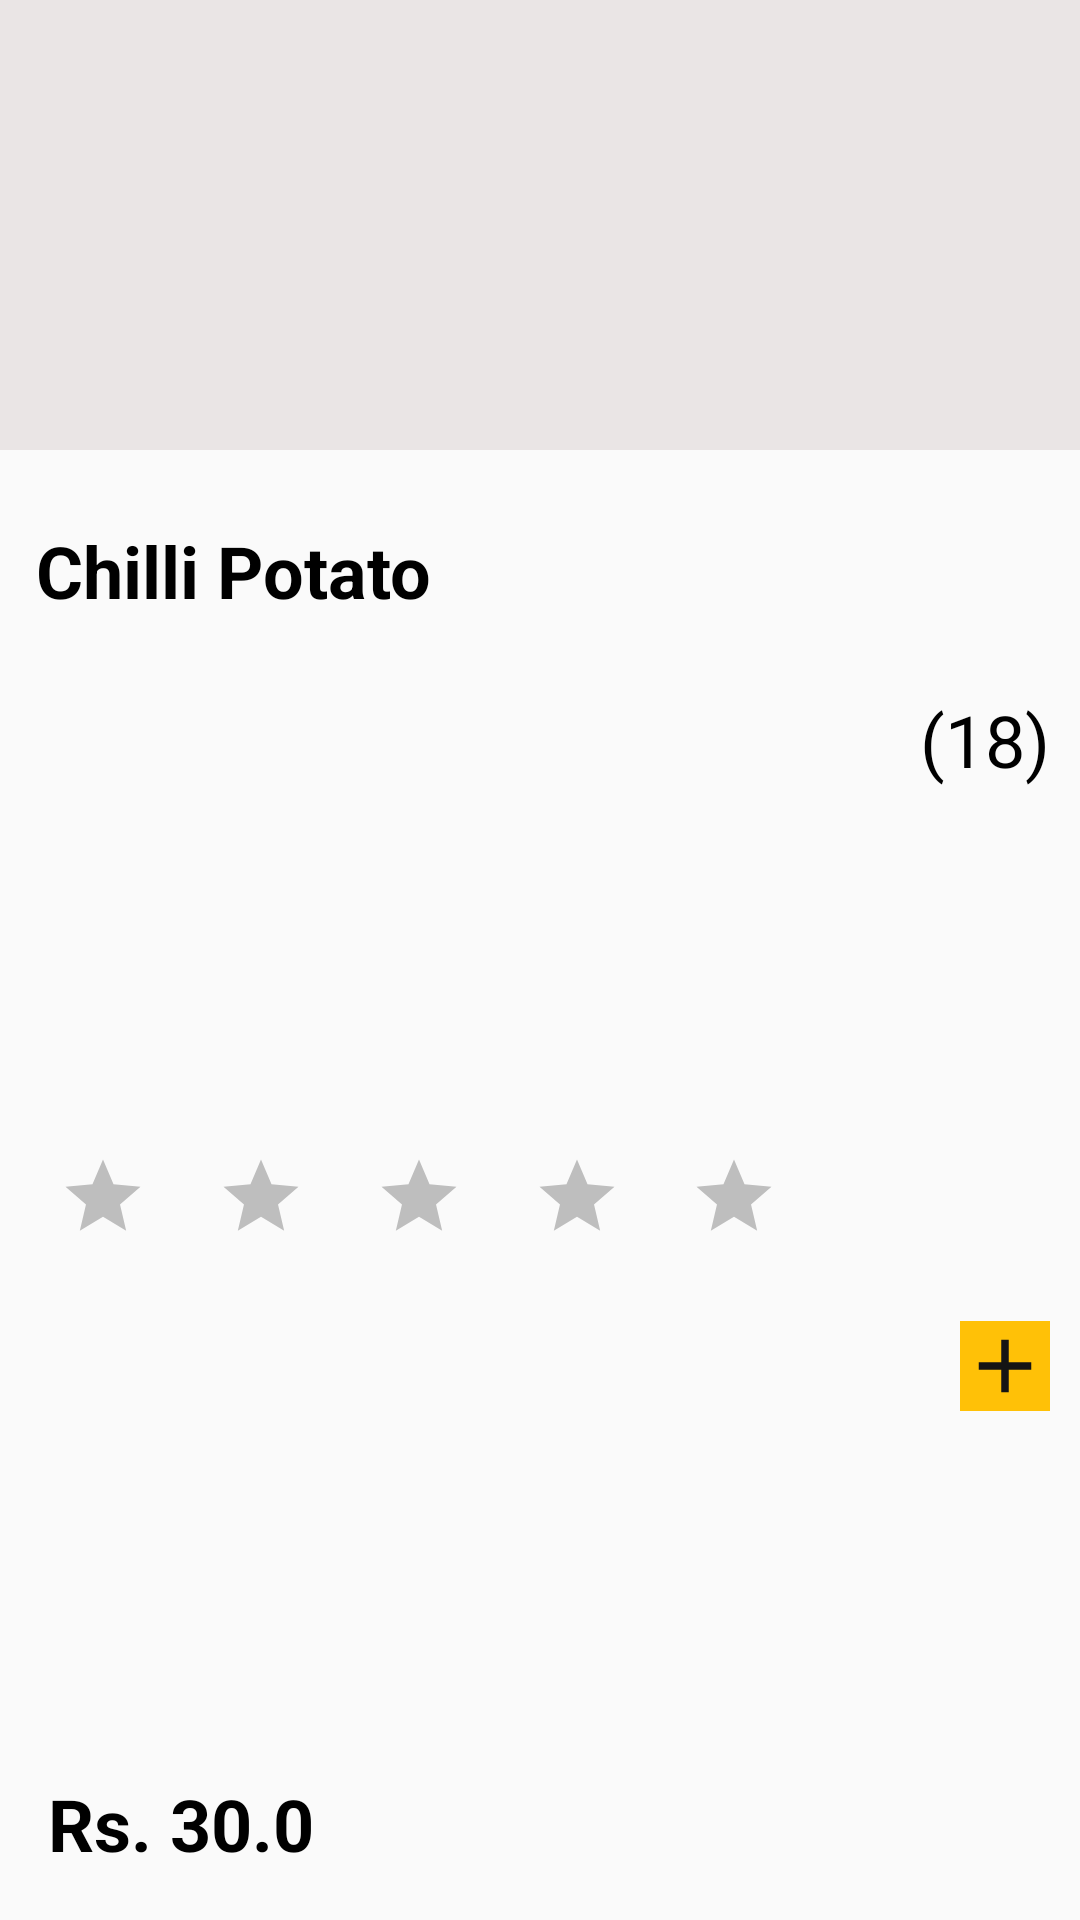

Icons on this 1080px x 1920px Android screen, each with its box as (x1=x1, y1=y1, x2=x2, y2=y2):
add: (x1=960, y1=1321, x2=1050, y2=1411)
star: (x1=66, y1=1160, x2=140, y2=1230), (x1=224, y1=1160, x2=298, y2=1230), (x1=382, y1=1160, x2=456, y2=1230), (x1=540, y1=1160, x2=614, y2=1230), (x1=697, y1=1160, x2=771, y2=1230)
